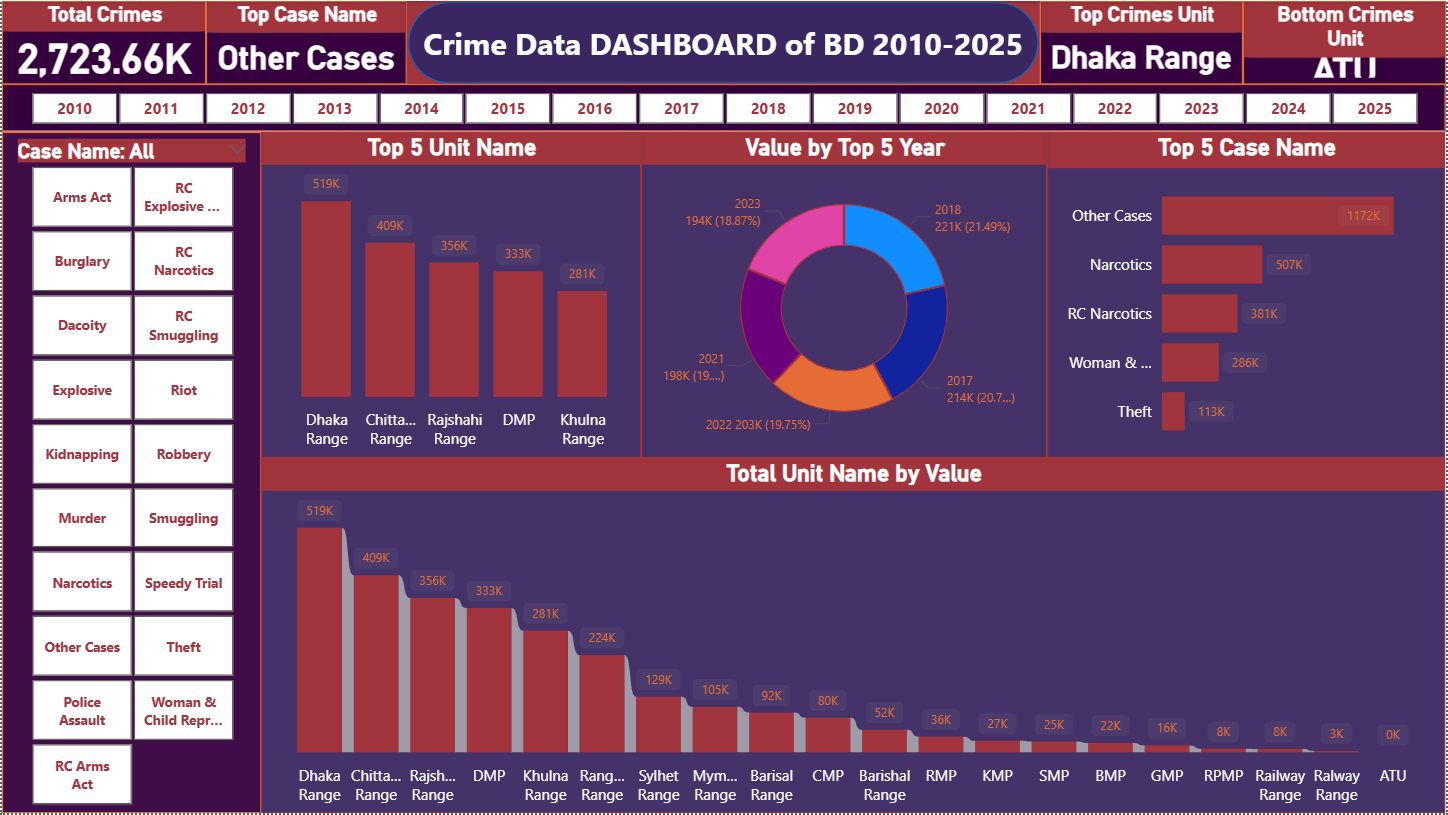

The page's visual inventory and layout, read from the dashboard file:
{"tool":"powerbi","page":{"name":"Page 1","canvas":[1280,720],"ordinal":0},"visuals":[{"type":"shape","box":[359,0,561,74],"z":0},{"type":"card","title":"Total Crimes","fields":{"Values":["Sum(BD Crime Data 2010-2025.Value)"]},"box":[0,0,181,74],"z":1000},{"type":"card","title":"Top Crimes Unit","fields":{"Values":["Min(BD Crime Data 2010-2025.Unit Name)"]},"box":[920,0,180,74],"z":2000},{"type":"card","title":"Bottom Crimes Unit","fields":{"Values":["Min(BD Crime Data 2010-2025.Unit Name)"]},"box":[1100,0,180,74],"z":3000},{"type":"card","title":"Top Case Name","fields":{"Values":["Min(BD Crime Data 2010-2025.Case Name)"]},"box":[181,0,178,74],"z":4000},{"type":"slicer","fields":{"Values":["BD Crime Data 2010-2025.Year"]},"box":[0,74,1280,42],"z":5000},{"type":"slicer","fields":{"Values":["BD Crime Data 2010-2025.Case Name"]},"box":[0,116,230,604],"z":6000},{"type":"clusteredBarChart","title":"Top 5 Case Name","fields":{"Category":["BD Crime Data 2010-2025.Case Name"],"Y":["Sum(BD Crime Data 2010-2025.Value)"]},"box":[927,116,353,289],"z":7000},{"type":"columnChart","title":"Top 5 Unit Name","fields":{"Category":["BD Crime Data 2010-2025.Unit Name"],"Y":["Sum(BD Crime Data 2010-2025.Value)"]},"box":[230,116,337,289],"z":8000},{"type":"donutChart","title":"Value by Top 5 Year","fields":{"Category":["BD Crime Data 2010-2025.Year"],"Y":["Sum(BD Crime Data 2010-2025.Value)"]},"box":[567,116,360,289],"z":9000},{"type":"columnChart","title":"Total Unit Name by Value","fields":{"Category":["BD Crime Data 2010-2025.Unit Name"],"Y":["Sum(BD Crime Data 2010-2025.Value)"]},"box":[230,405,1050,315],"z":10000}]}

Visuals, with their boxes in screenshot pixels (x1, y1, x2, y2), scaled from the page's 1280x720 canvas onto the 1448x815 screenshot:
shape: [left=406, top=0, right=1041, bottom=84]
"Total Crimes" card: [left=0, top=0, right=205, bottom=84]
"Top Crimes Unit" card: [left=1041, top=0, right=1244, bottom=84]
"Bottom Crimes Unit" card: [left=1244, top=0, right=1447, bottom=84]
"Top Case Name" card: [left=205, top=0, right=406, bottom=84]
slicer - BD Crime Data 2010-2025.Year: [left=0, top=84, right=1447, bottom=131]
slicer - BD Crime Data 2010-2025.Case Name: [left=0, top=131, right=260, bottom=814]
"Top 5 Case Name" clusteredBarChart: [left=1049, top=131, right=1447, bottom=458]
"Top 5 Unit Name" columnChart: [left=260, top=131, right=641, bottom=458]
"Value by Top 5 Year" donutChart: [left=641, top=131, right=1049, bottom=458]
"Total Unit Name by Value" columnChart: [left=260, top=458, right=1447, bottom=814]
